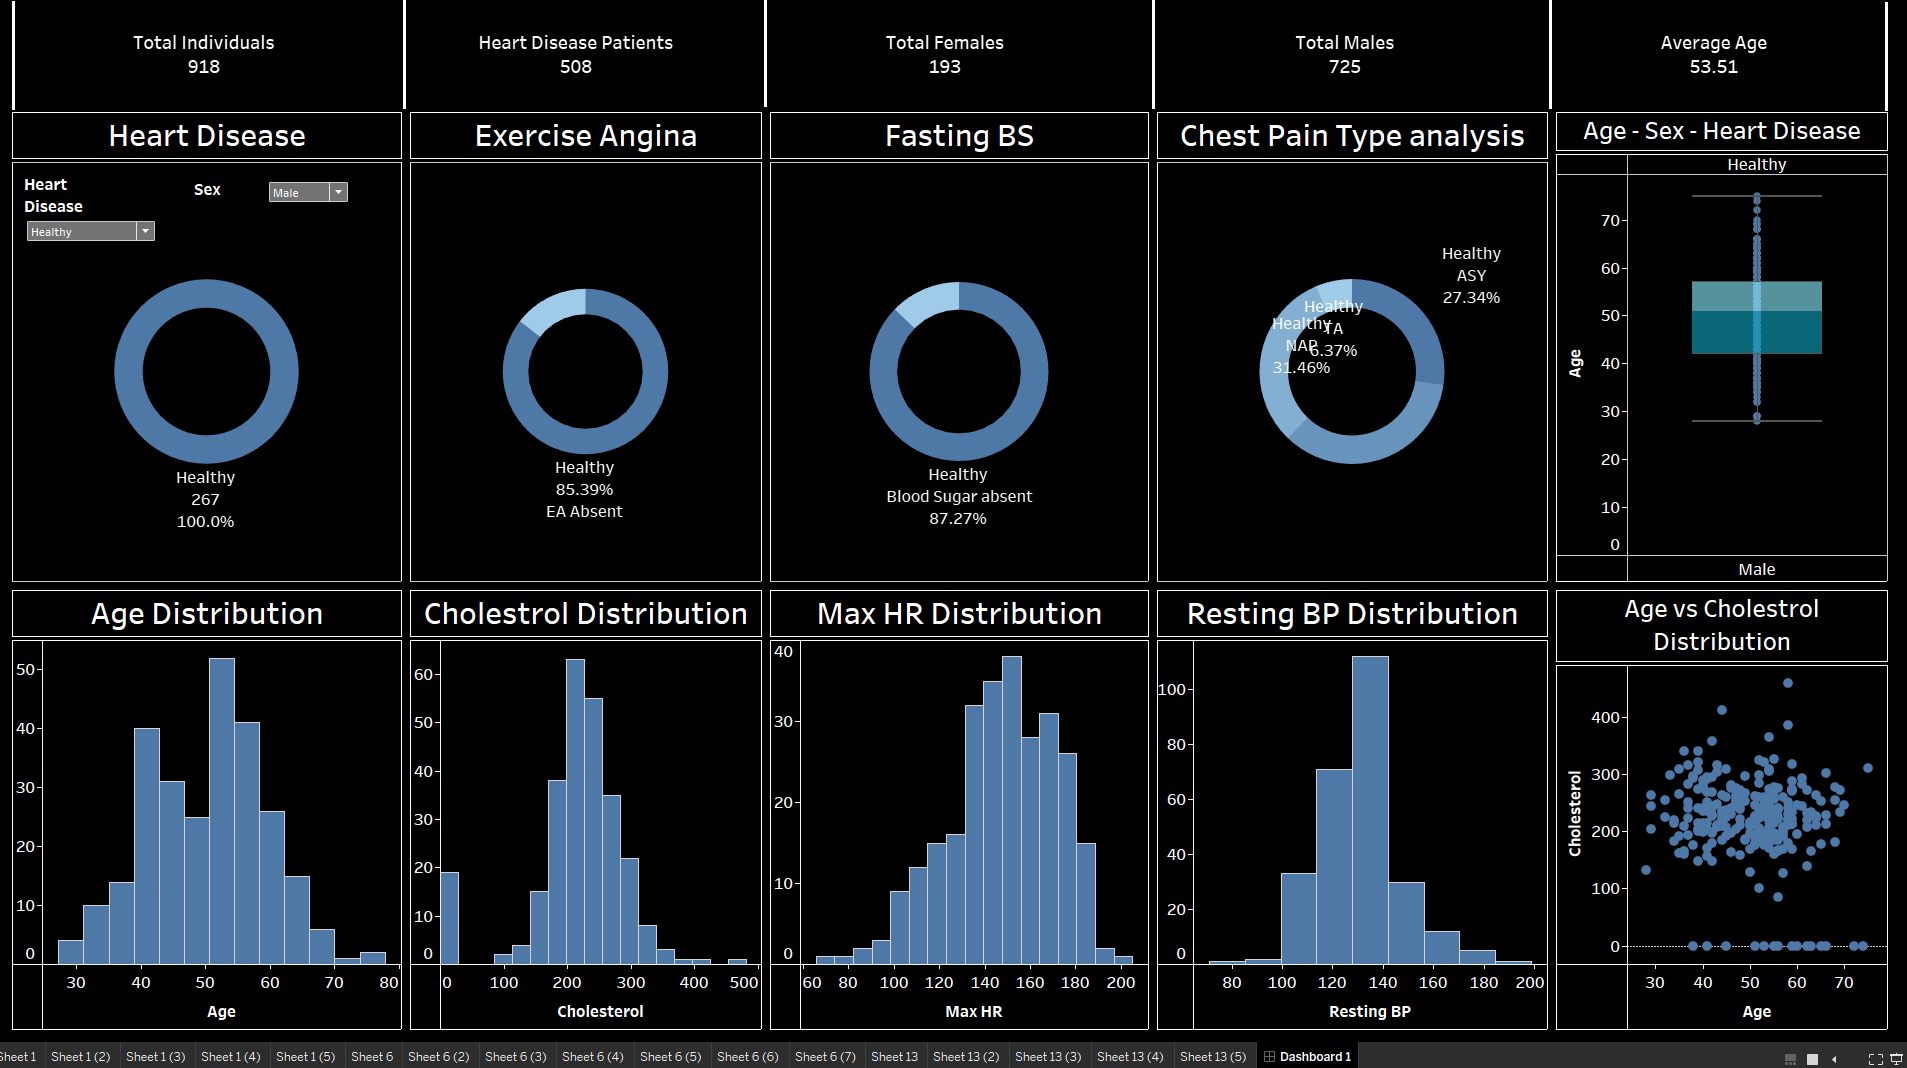

The page's visual inventory and layout, read from the dashboard file:
{"tool":"tableau","page":{"name":"Dashboard 1","canvas":[1900,1050],"ordinal":0},"visuals":[{"type":"blank","box":[764,6,3,109]},{"type":"worksheet","title":"Sheet 13","mark":"Automatic","box":[8,8,398,108]},{"type":"blank","box":[403,8,3,109]},{"type":"worksheet","title":"Sheet 13 (2)","mark":"Automatic","box":[406,8,360,108]},{"type":"worksheet","title":"Sheet 13 (3)","mark":"Automatic","box":[766,8,387,108]},{"type":"blank","box":[1152,8,3,109]},{"type":"worksheet","title":"Sheet 13 (4)","mark":"Automatic","box":[1153,8,399,108]},{"type":"blank","box":[1549,8,3,109]},{"type":"worksheet","title":"Sheet 13 (5)","mark":"Automatic","box":[1552,8,340,108]},{"type":"blank","box":[12,9,3,109]},{"type":"blank","box":[1885,10,3,109]},{"type":"worksheet","title":"Sheet 1","mark":"Pie","rows":["Calculation_1559089924405420033","Calculation_1559089924405420033"],"box":[8,116,398,478.5]},{"type":"worksheet","title":"Sheet 1 (2)","mark":"Pie","rows":["Calculation_1559089924405420033","Calculation_1559089924405420033"],"box":[406,116,360.1,478]},{"type":"worksheet","title":"Sheet 1 (3)","mark":"Pie","rows":["Calculation_1559089924405420033","Calculation_1559089924405420033"],"box":[766,116,386.9,478]},{"type":"worksheet","title":"Sheet 1 (5)","mark":"Pie","rows":["Calculation_1559089924405420033","Calculation_1559089924405420033"],"box":[1152.9,116,399,478]},{"type":"worksheet","title":"Sheet 6 (7)","mark":"Circle","rows":["Age"],"cols":["HeartDisease","Sex"],"box":[1552,116,340,478]},{"type":"filter","title":"Sheet 1","param":"[federated.0mmssow19dczy51bjvsjd0ov2lq9].[none:HeartDisease:nk]","box":[24,181,134,85]},{"type":"filter","title":"Sheet 6 (7)","param":"[federated.0mmssow19dczy51bjvsjd0ov2lq9].[none:Sex:nk]","box":[194,187,157,36]},{"type":"worksheet","title":"Sheet 6 (2)","mark":"Automatic","rows":["Cholesterol"],"cols":["Cholesterol (bin)"],"box":[406,594,360.1,448]},{"type":"worksheet","title":"Sheet 6 (3)","mark":"Automatic","rows":["MaxHR"],"cols":["Max HR (bin)"],"box":[766,594,386.9,448]},{"type":"worksheet","title":"Sheet 6 (4)","mark":"Automatic","rows":["RestingBP"],"cols":["Resting BP (bin)"],"box":[1152.9,594,399,448]},{"type":"worksheet","title":"Sheet 6 (6)","mark":"Automatic","rows":["Cholesterol"],"cols":["Age"],"box":[1552,594,340,448]},{"type":"worksheet","title":"Sheet 6","mark":"Automatic","rows":["Age"],"cols":["Age (bin)"],"box":[8,594.5,398,447.5]}]}

Visuals, with their boxes in screenshot pixels (x1, y1, x2, y2):
blank: 761 36 764 144
"Sheet 13" worksheet: 13 38 407 145
blank: 404 38 407 146
"Sheet 13 (2)" worksheet: 407 38 763 145
"Sheet 13 (3)" worksheet: 763 38 1146 145
blank: 1145 38 1148 146
"Sheet 13 (4)" worksheet: 1146 38 1541 145
blank: 1538 38 1541 146
"Sheet 13 (5)" worksheet: 1541 38 1878 145
blank: 17 39 20 147
blank: 1871 40 1874 148
"Sheet 1" worksheet (Pie marks): 13 145 407 618
"Sheet 1 (2)" worksheet (Pie marks): 407 145 763 618
"Sheet 1 (3)" worksheet (Pie marks): 763 145 1146 618
"Sheet 1 (5)" worksheet (Pie marks): 1146 145 1541 618
"Sheet 6 (7)" worksheet (Circle marks): 1541 145 1878 618
"Sheet 1" filter: 29 209 161 293
"Sheet 6 (7)" filter: 197 215 352 251
"Sheet 6 (2)" worksheet: 407 618 763 1061
"Sheet 6 (3)" worksheet: 763 618 1146 1061
"Sheet 6 (4)" worksheet: 1146 618 1541 1061
"Sheet 6 (6)" worksheet: 1541 618 1878 1061
"Sheet 6" worksheet: 13 618 407 1061
